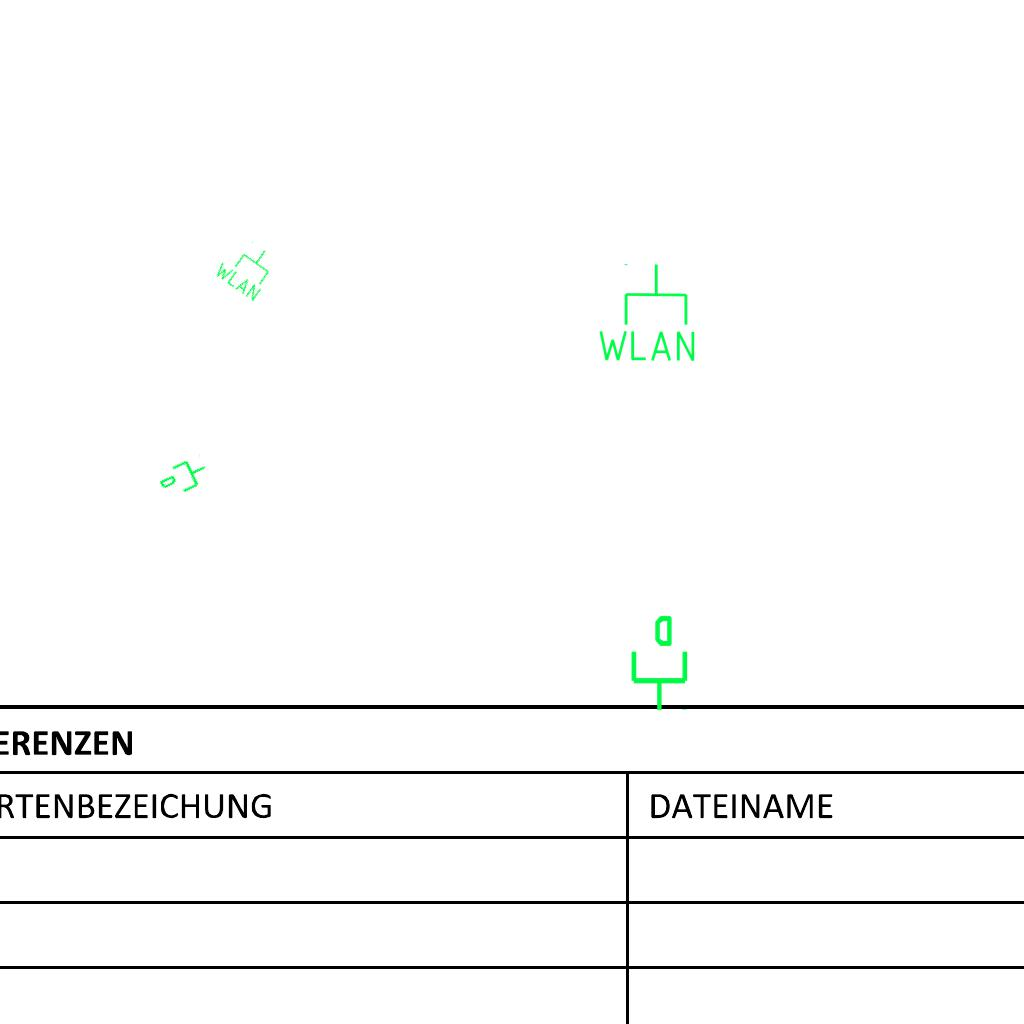Datenanschluss_einfach: (623, 613, 692, 713), (154, 452, 214, 504)
WLAN: (594, 261, 699, 365), (210, 231, 284, 305)
